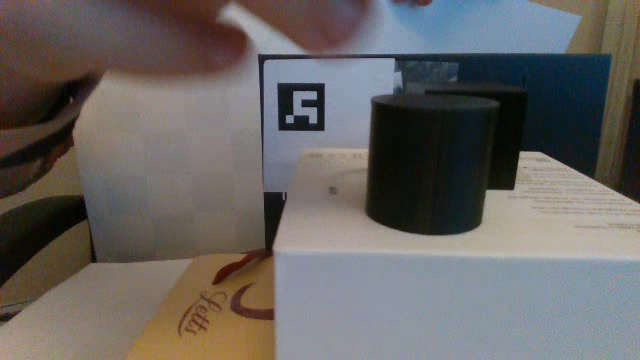cube: (423, 80, 537, 202)
cylindre: (363, 90, 499, 237)
